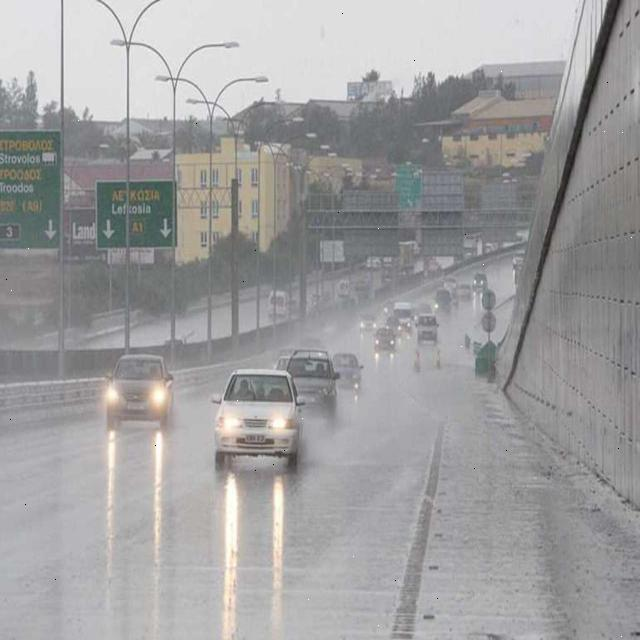car: (213, 368, 303, 468), (107, 353, 173, 428), (278, 347, 338, 411), (332, 352, 364, 388), (416, 312, 440, 342), (393, 300, 414, 330), (374, 326, 394, 354), (266, 290, 286, 318), (359, 316, 377, 332)
